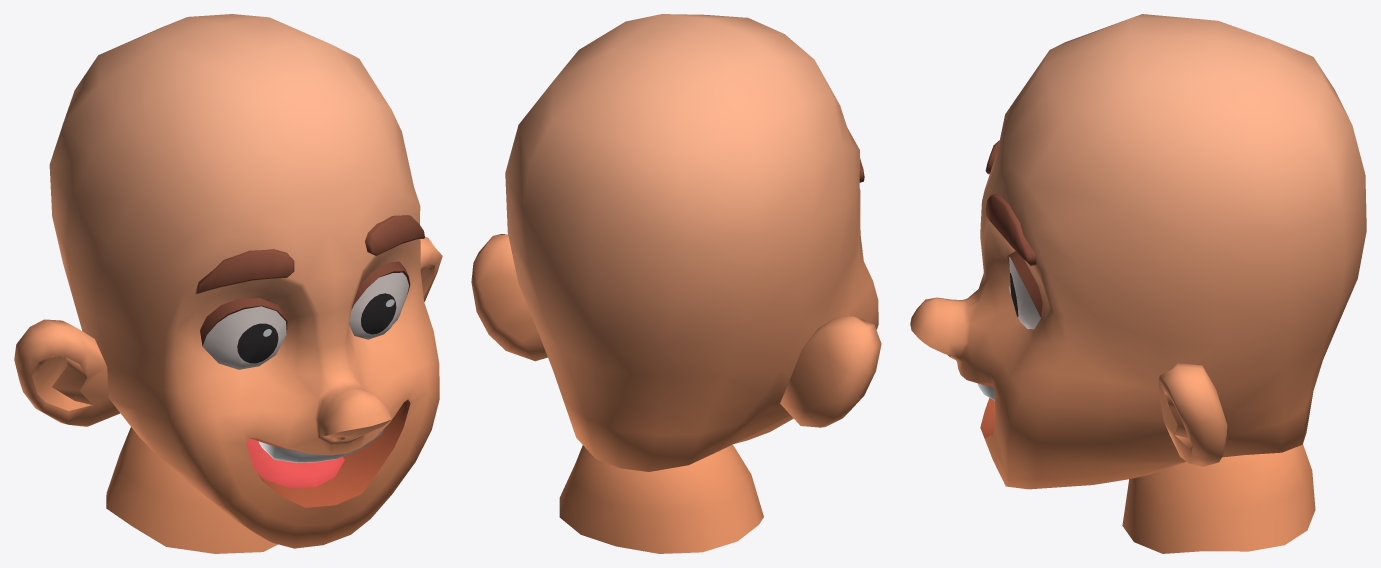
File: Racer_Head_05.fbx
3 renders of one model, left to right at view 1: azimuth 30°, elevation 25°; view 2: azimuth 150°, elevation 25°; view 3: azimuth 270°, elevation 25°, orthographic. The views are drawn at different scales.
Visible parts, largest first — view 1: Racer_Head_05; view 2: Racer_Head_05; view 3: Racer_Head_05.
Boxes of the visible parts, <box> form: Racer_Head_05: <box>14,14,442,553</box>; Racer_Head_05: <box>471,14,881,553</box>; Racer_Head_05: <box>910,14,1366,553</box>.
Bounding box in the file's own units: 32.32 × 31.26 × 37.11.
